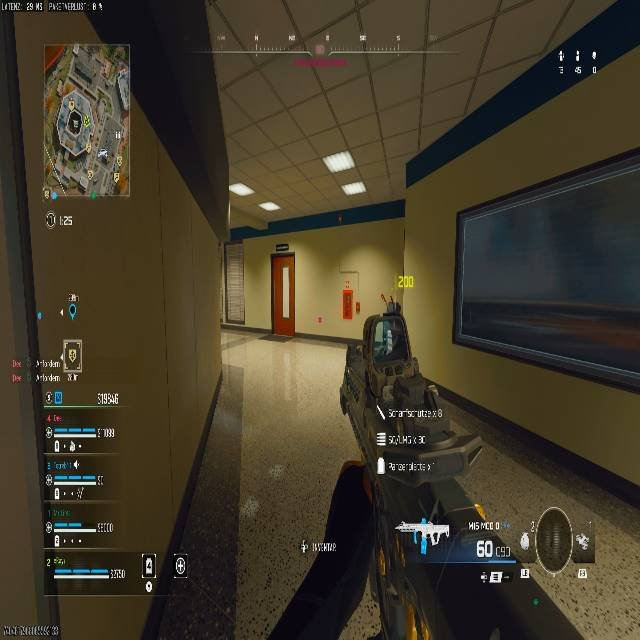player: (340, 284, 356, 319), (354, 299, 360, 317)
